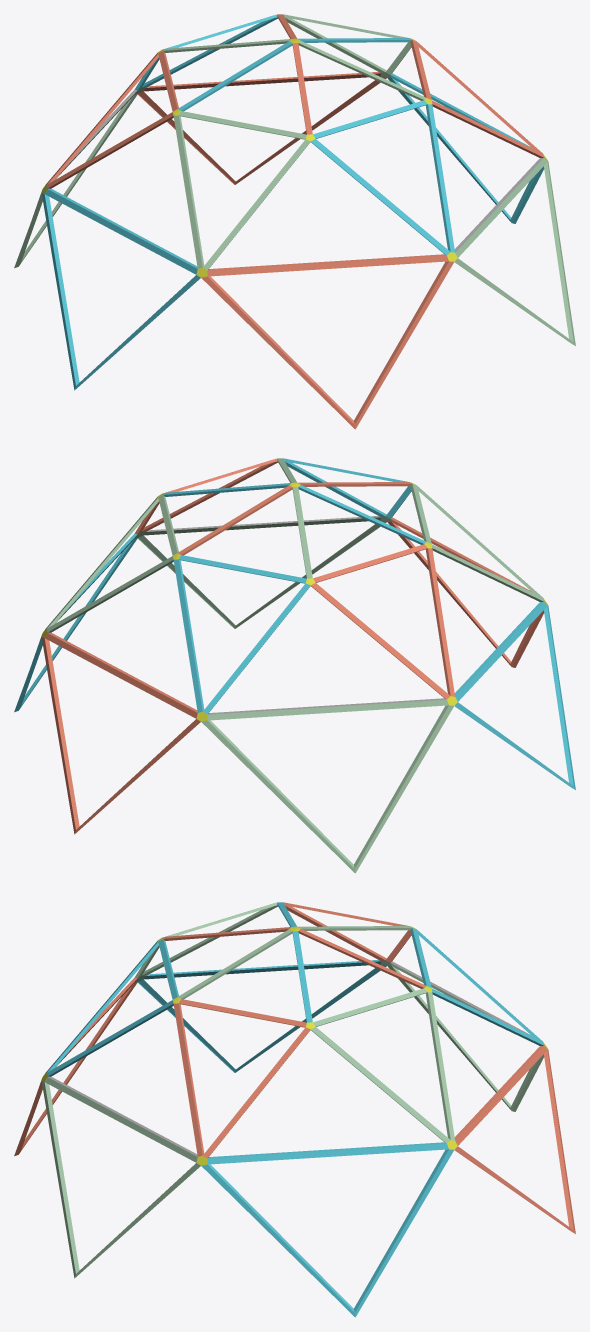
The model's file is JungleGym.fbx.
3 renders of one model, top to bottom at view 1: azimuth 30°, elevation 25°; view 2: azimuth 150°, elevation 25°; view 3: azimuth 270°, elevation 25°, orthographic.
Visible parts, largest first — view 1: pSphere1; view 2: pSphere1; view 3: pSphere1.
Boxes of the visible parts, box(x1,y1,x2,y2) form: pSphere1: box(14, 14, 575, 429); pSphere1: box(14, 458, 575, 873); pSphere1: box(14, 902, 575, 1317).
Bounding box in the file's own units: 19.85 × 10.08 × 19.27.
